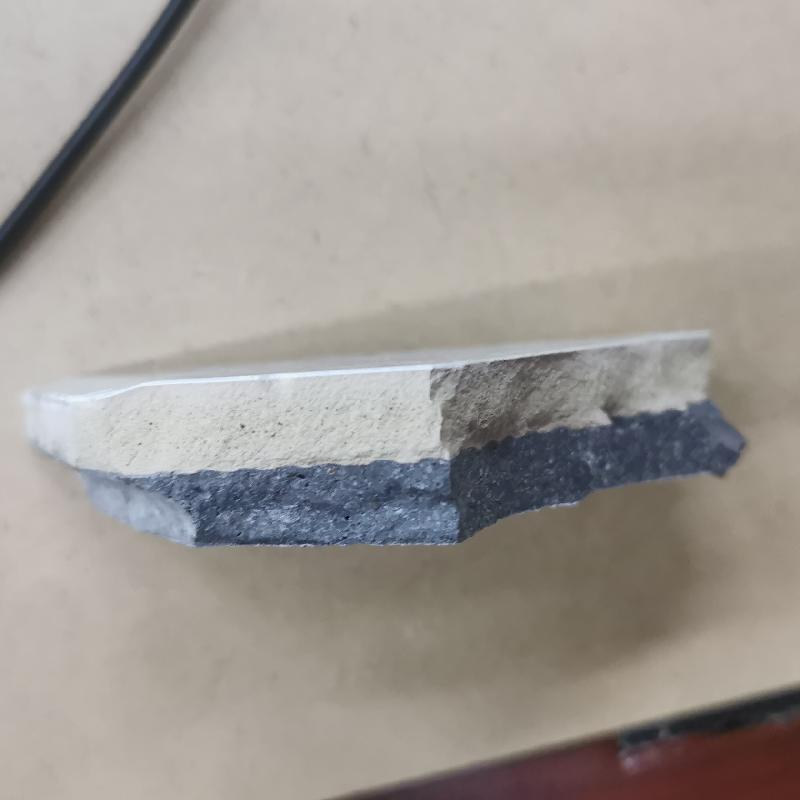tile: (19, 322, 752, 556)
